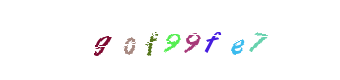7: (202, 0, 282, 80)
9: (129, 0, 209, 80), (132, 0, 212, 80)
E: (171, 0, 251, 80)
F: (111, 0, 191, 80), (136, 0, 216, 80)
G: (62, 0, 142, 80)
O: (99, 0, 179, 80)
